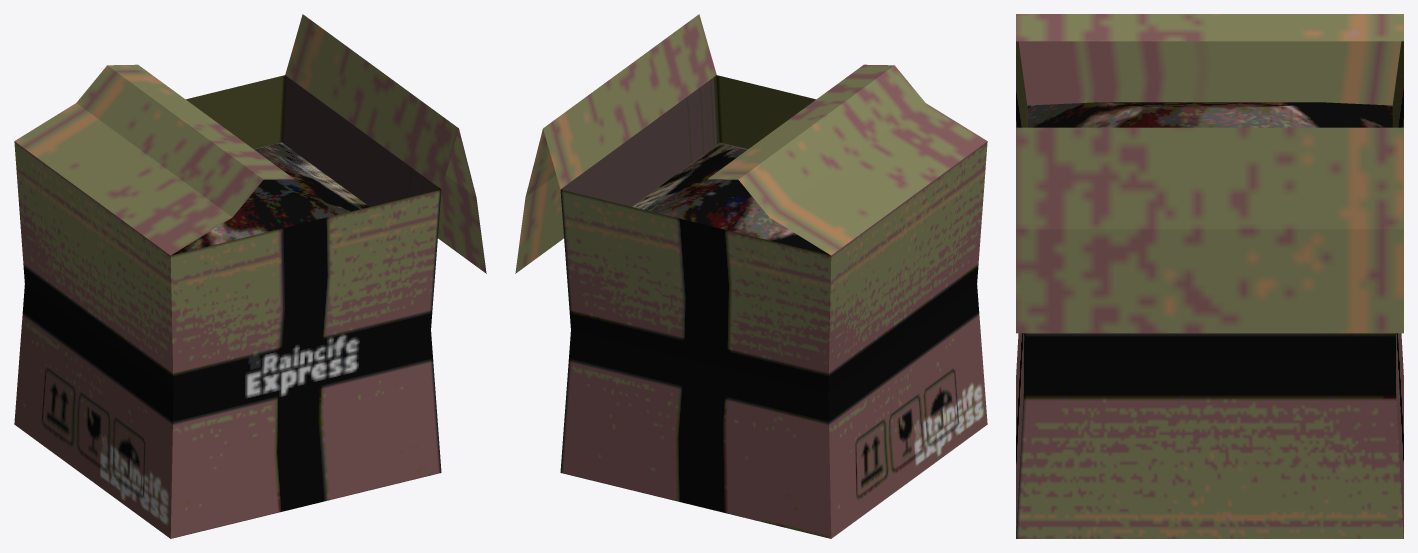
Rendered from Caixa_3.fbx.
3 renders of one model, left to right at view 1: azimuth 30°, elevation 25°; view 2: azimuth 150°, elevation 25°; view 3: azimuth 270°, elevation 25°, orthographic. The views are drawn at different scales.
Parts seen in each view (by area): view 1: Cube.002; view 2: Cube.002; view 3: Cube.002.
Boxes of the visible parts, left/top/right/bottom form: Cube.002: left=14, top=14, right=486, bottom=538; Cube.002: left=515, top=14, right=987, bottom=538; Cube.002: left=1016, top=14, right=1403, bottom=538.
Size of the model in its own units: 112 by 115 by 95.69.
1 material, 1 textured.
